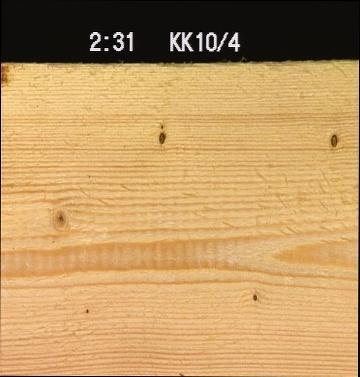dry_knot: (154, 127, 168, 147), (326, 130, 339, 147)
small_knot: (247, 289, 259, 303)
sound_knot: (47, 206, 71, 235)
